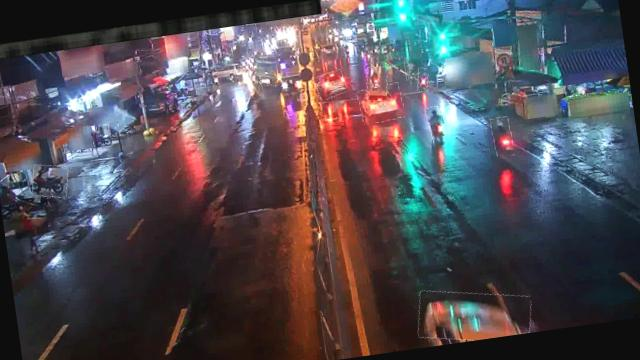Bike: (29, 162, 70, 200), (489, 115, 514, 158), (363, 65, 389, 102), (426, 104, 446, 146), (403, 58, 418, 81), (415, 67, 429, 91)
Car: (414, 280, 534, 348), (357, 83, 405, 125), (314, 70, 346, 100)
